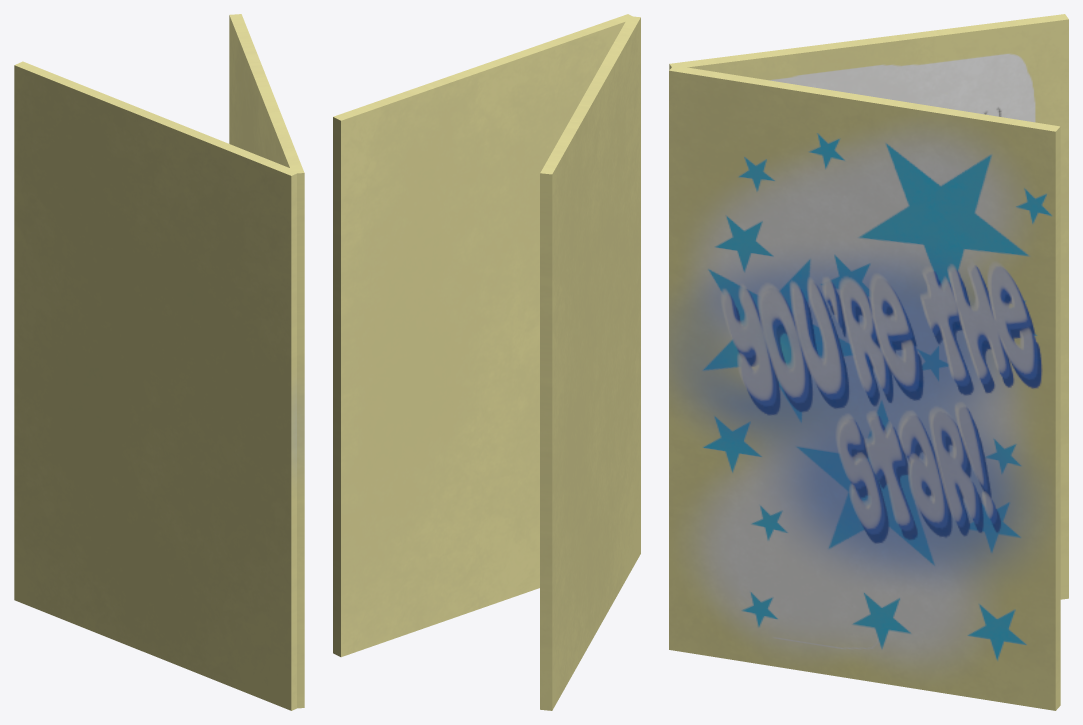
File: Card.fbx
3 renders of one model, left to right at view 1: azimuth 30°, elevation 25°; view 2: azimuth 150°, elevation 25°; view 3: azimuth 270°, elevation 25°, orthographic. The views are drawn at different scales.
Visible parts, largest first — view 1: pCube3; view 2: pCube3; view 3: pCube3.
Boxes of the visible parts, left/top/right/bottom form: pCube3: left=14, top=14, right=304, bottom=710; pCube3: left=333, top=14, right=640, bottom=710; pCube3: left=669, top=14, right=1068, bottom=710.
Size of the model in its own units: 2.98 by 6.84 by 4.28.
Materials: 1 (1 with a texture image).
